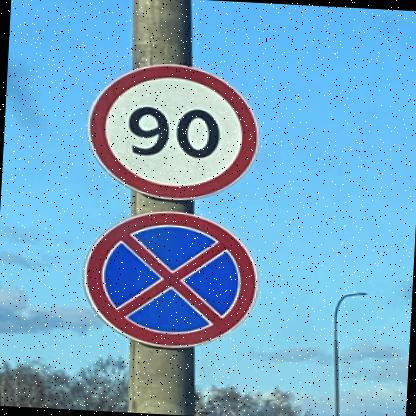speedlimit: (81, 59, 261, 202)
